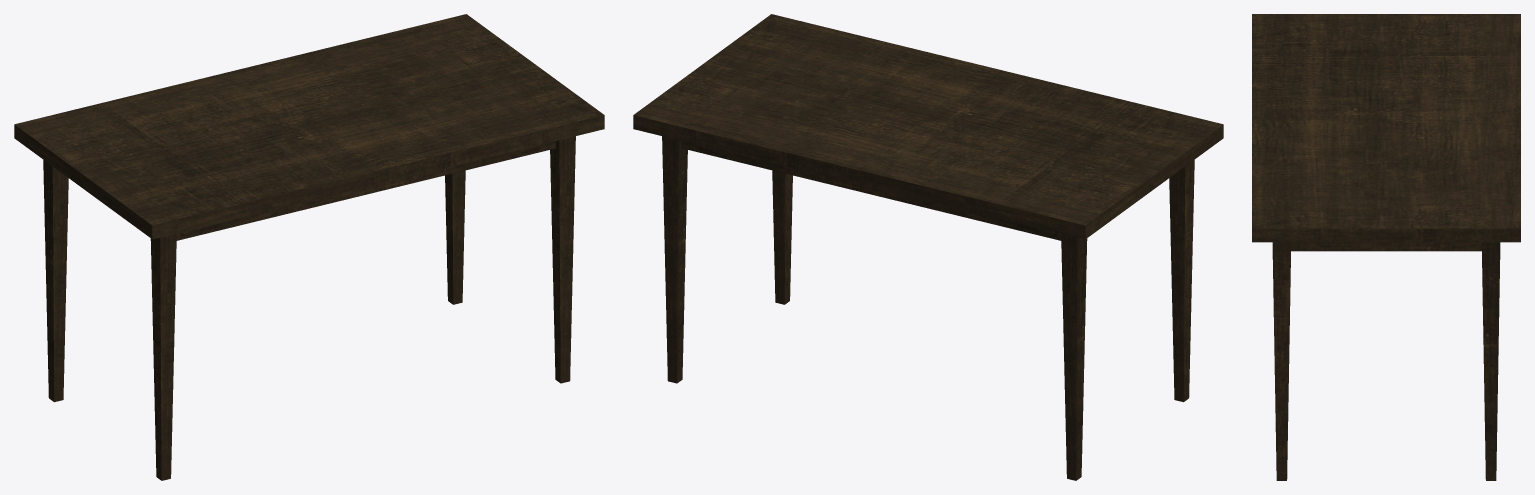
File: table_large_2_3.obj
3 renders of one model, left to right at view 1: azimuth 30°, elevation 25°; view 2: azimuth 150°, elevation 25°; view 3: azimuth 270°, elevation 25°, orthographic. The views are drawn at different scales.
Visible parts, largest first — view 1: table_large_2_3; view 2: table_large_2_3; view 3: table_large_2_3.
Boxes of the visible parts, box(x1,y1,x2,y2) form: table_large_2_3: box(14, 14, 604, 480); table_large_2_3: box(633, 14, 1223, 480); table_large_2_3: box(1252, 14, 1520, 480).
Bounding box in the file's own units: 1.7 × 0.97 × 0.9.
